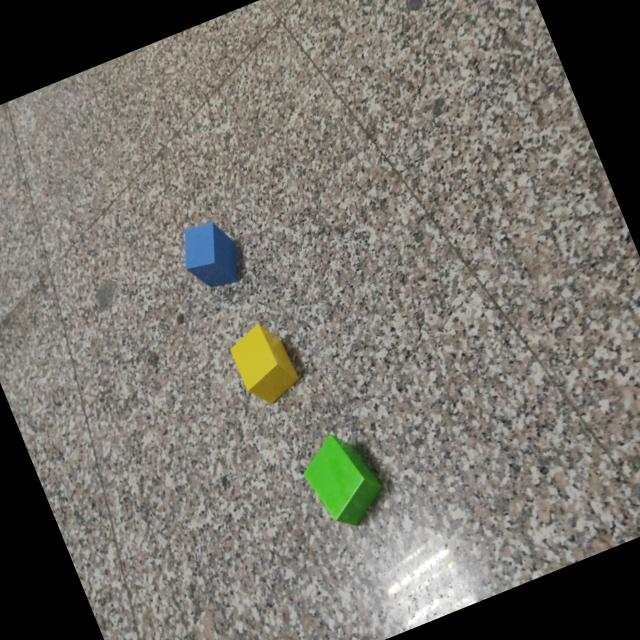blue: (183, 222, 244, 290)
green: (304, 435, 386, 527)
yellow: (230, 325, 301, 406)
